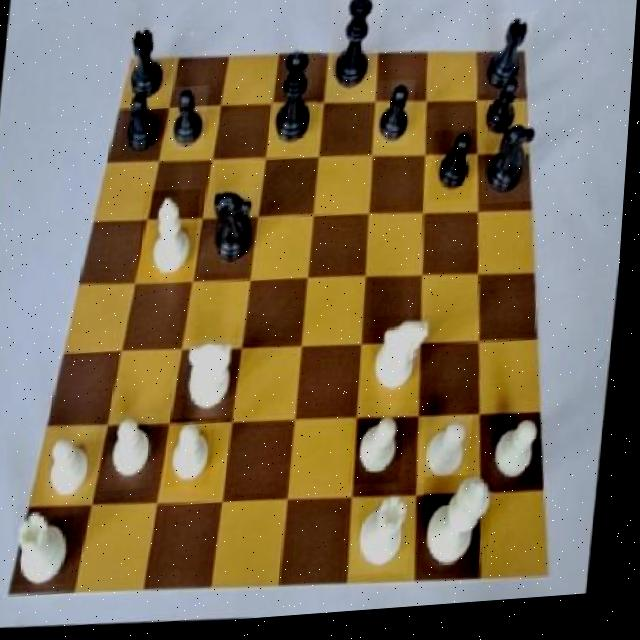black-bishop: (325, 0, 387, 109)
black-king: (203, 188, 266, 279), (483, 126, 544, 213)
black-knight: (431, 134, 479, 209), (122, 91, 169, 163), (486, 83, 530, 149), (376, 86, 417, 155), (169, 87, 210, 156)
black-pawn: (268, 49, 322, 154)
black-queen: (475, 19, 536, 103), (121, 25, 174, 104)
black-rook: (141, 190, 205, 288)
white-bishop: (425, 480, 502, 584)
white-king: (372, 319, 440, 410), (179, 340, 246, 424)
white-knight: (492, 420, 552, 496), (107, 414, 164, 493), (49, 430, 103, 507), (356, 419, 412, 491), (424, 421, 480, 492), (173, 420, 223, 491)
white-queen: (16, 503, 81, 589), (357, 502, 421, 583)
